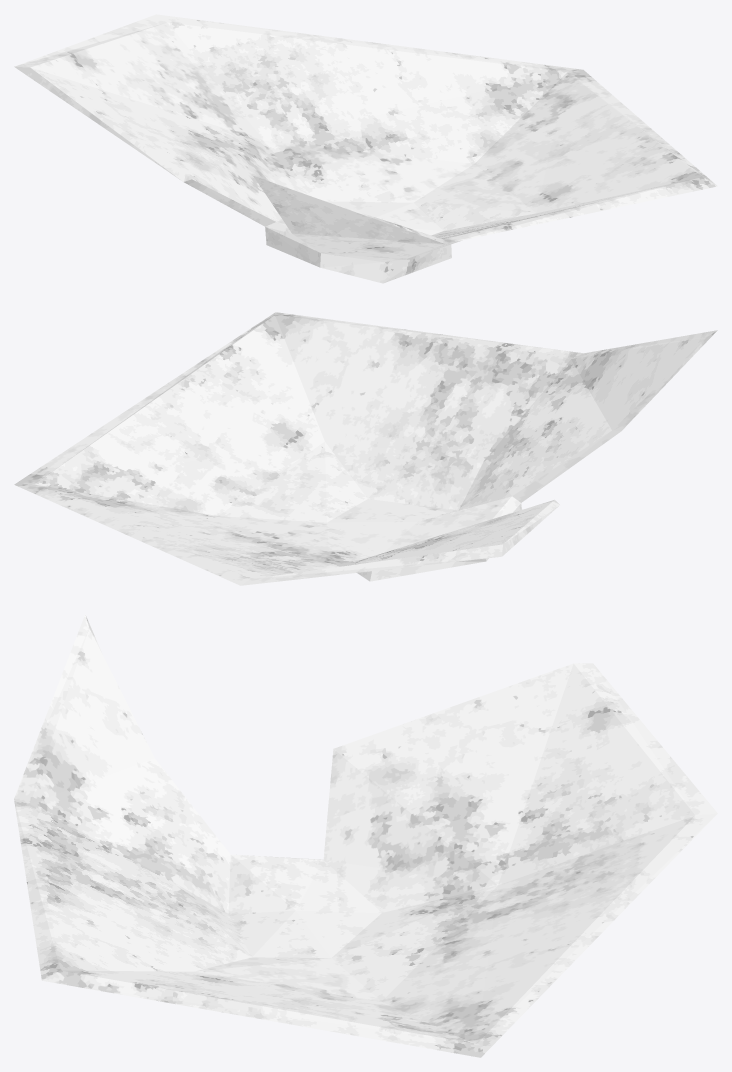
File: escombrao.glb
3 renders of one model, top to bottom at view 1: azimuth 30°, elevation 25°; view 2: azimuth 150°, elevation 25°; view 3: azimuth 270°, elevation 25°, orthographic. The views are drawn at different scales.
Visible parts, largest first — view 1: Dish_big_broken; view 2: Dish_big_broken; view 3: Dish_big_broken.
Part boxes in pixels (x1,y1,x2,y2): Dish_big_broken: (14,14,717,283); Dish_big_broken: (14,312,717,585); Dish_big_broken: (14,614,717,1057).
Size of the model in its own units: 5.75 by 2.1 by 5.94.
Materials: 1 (1 with a texture image).
